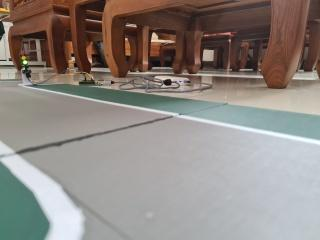green: (13, 44, 31, 72)
